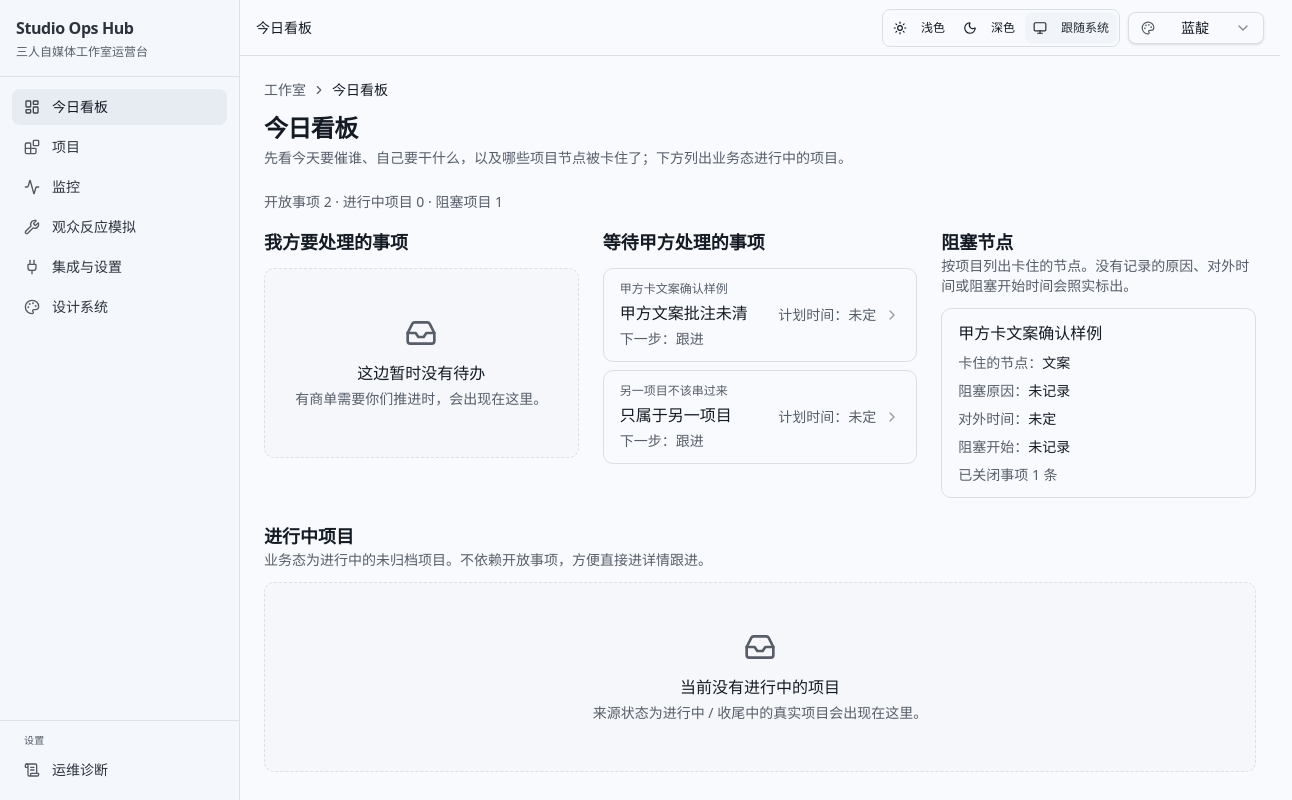
project entry routes › home action and block cards open the same project timeline
Check: the link with test id "home-block" shows "未记录", box [958,322,1102,484]
Check: the link with test id "home-block" shows "已关闭事项 1 条", box [958,322,1102,484]
Click the link with test id "home-action": (674, 288) [603,268,917,362]
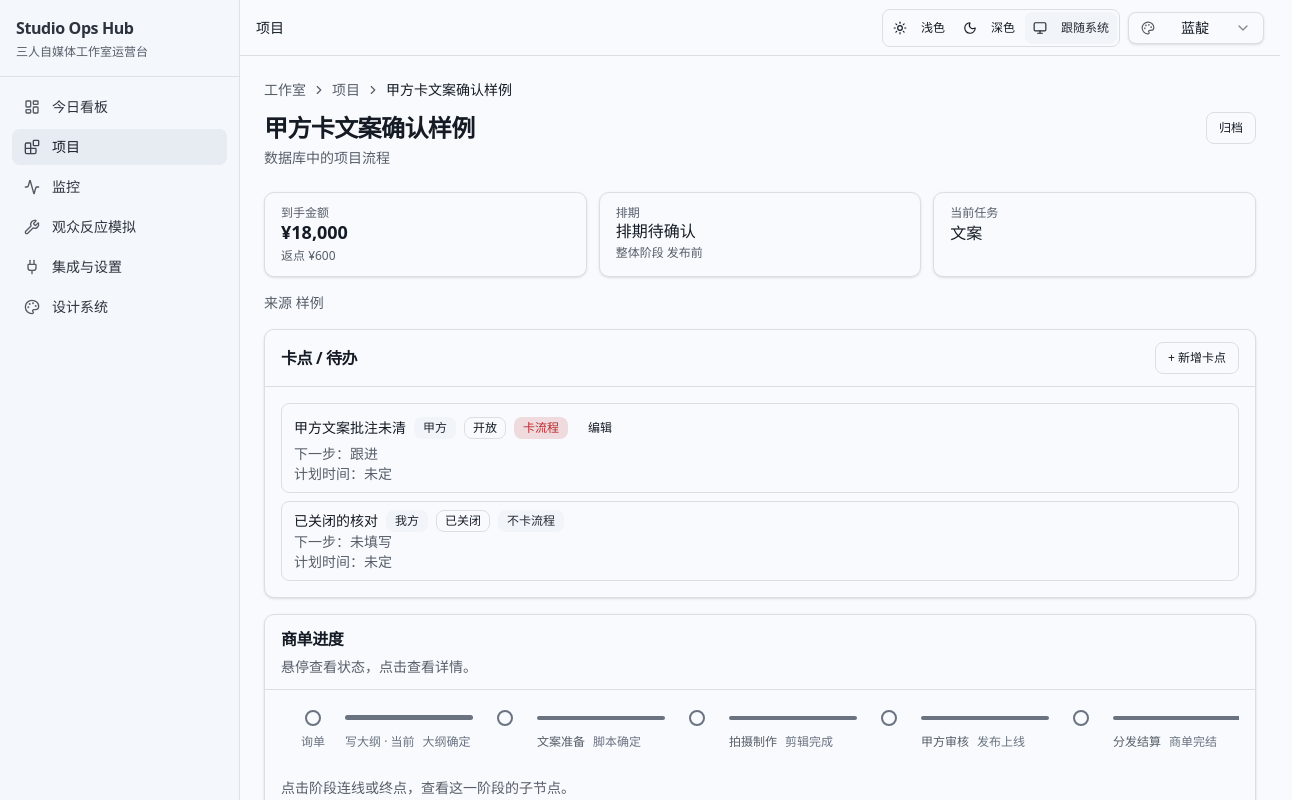
Check: the element with test id "progress-timeline" is shown, box [281,706,1239,766]
Check: the heading "甲方卡文案确认样例" is shown, box [264,112,475,144]
